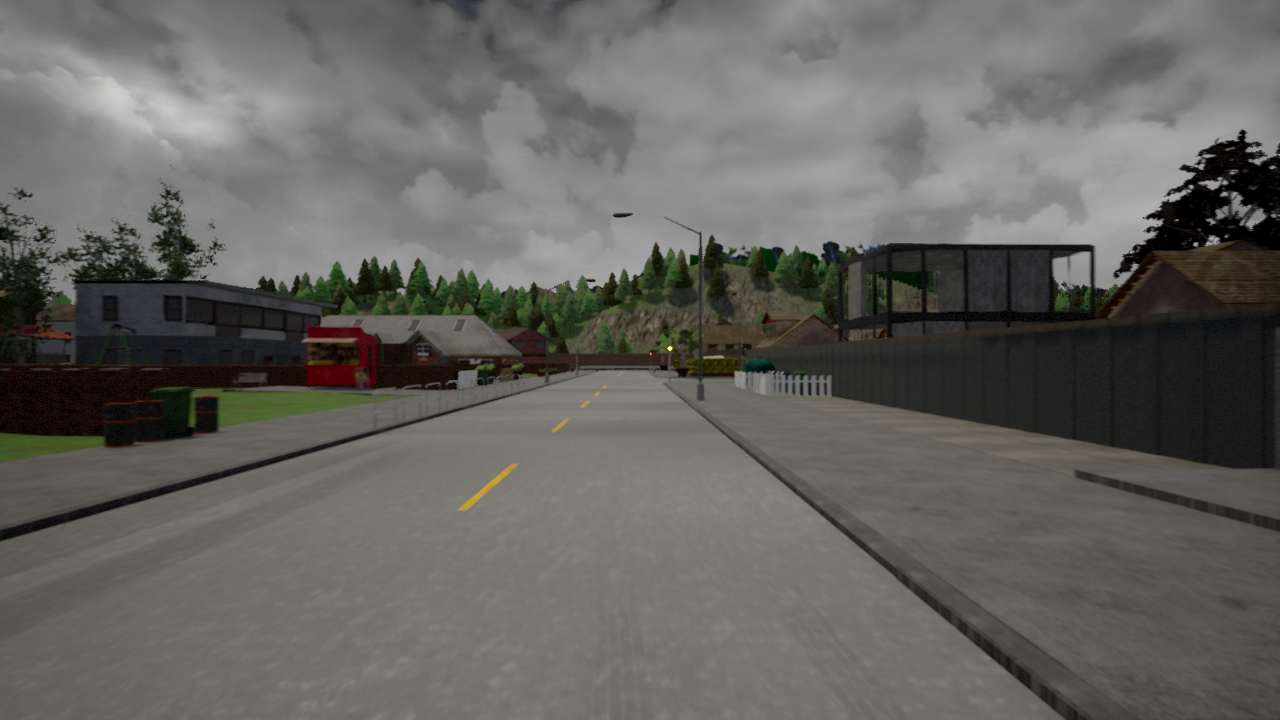yellow: (666, 341, 673, 357)
